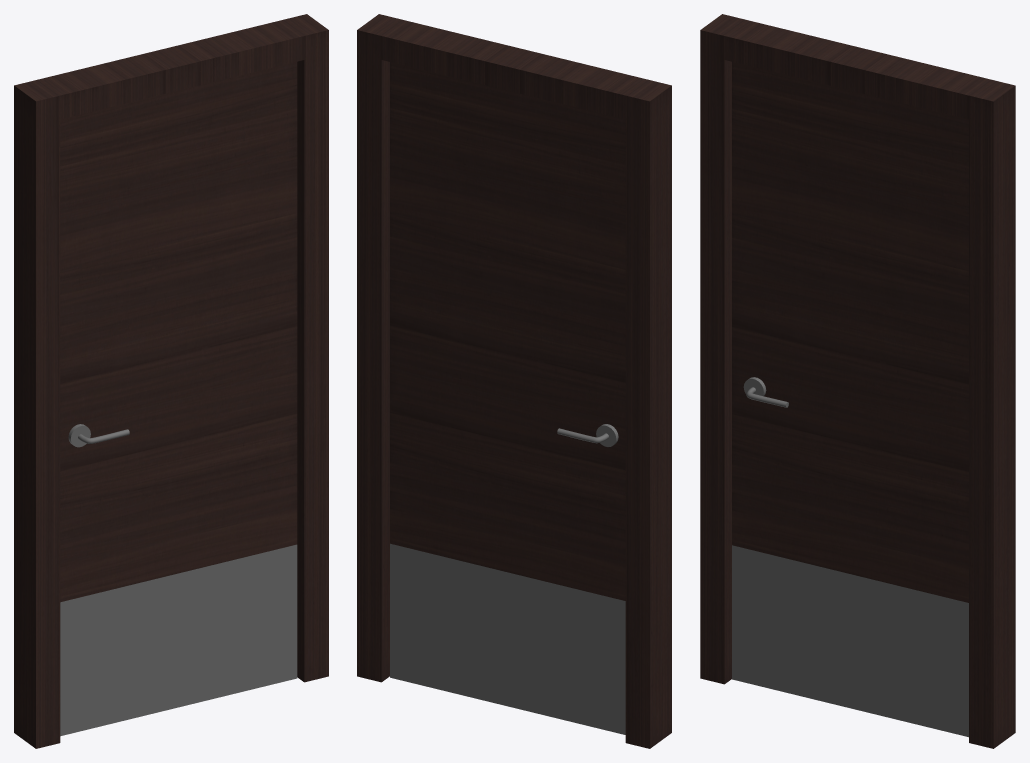
Rendered from Door.FBX.
3 views of the same model, side by side, from view 1: azimuth 30°, elevation 25°; view 2: azimuth 150°, elevation 25°; view 3: azimuth 330°, elevation 25° (orthographic).
Visible parts, largest first — view 1: Door, door frame; view 2: Door, door frame; view 3: Door, door frame.
Boxes of the visible parts, bbox=[...] form: Door: bbox=[60, 62, 297, 736]; door frame: bbox=[14, 14, 328, 748]; Door: bbox=[390, 62, 625, 734]; door frame: bbox=[357, 14, 671, 748]; Door: bbox=[732, 62, 968, 737]; door frame: bbox=[700, 14, 1015, 748].
Bounding box in the file's own units: 100 × 212 × 17.47.
2 materials, 1 textured.
